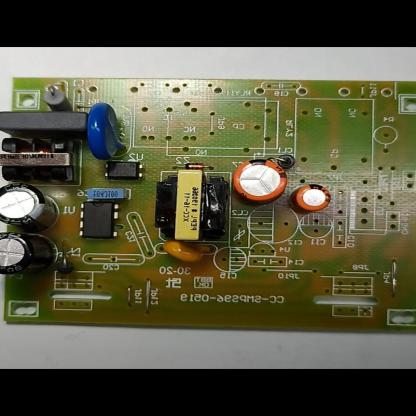Cap1: (228, 158, 292, 204)
Cap2: (289, 183, 333, 213)
Cap3: (0, 181, 61, 233)
Cap4: (0, 232, 57, 276)
MOSFET: (75, 200, 122, 241)
Mov: (84, 99, 131, 161)
Resistor: (40, 84, 75, 111)
Transformer: (152, 166, 230, 244), (0, 136, 77, 184)
